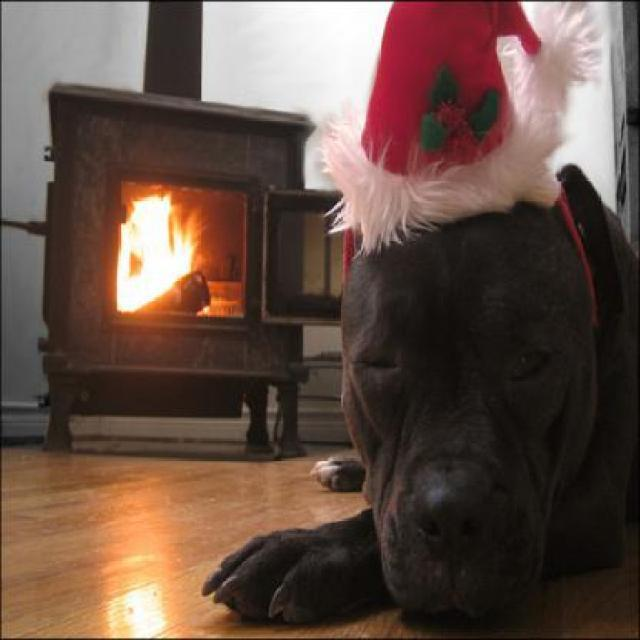Fire: (117, 194, 197, 315), (186, 204, 208, 240)
